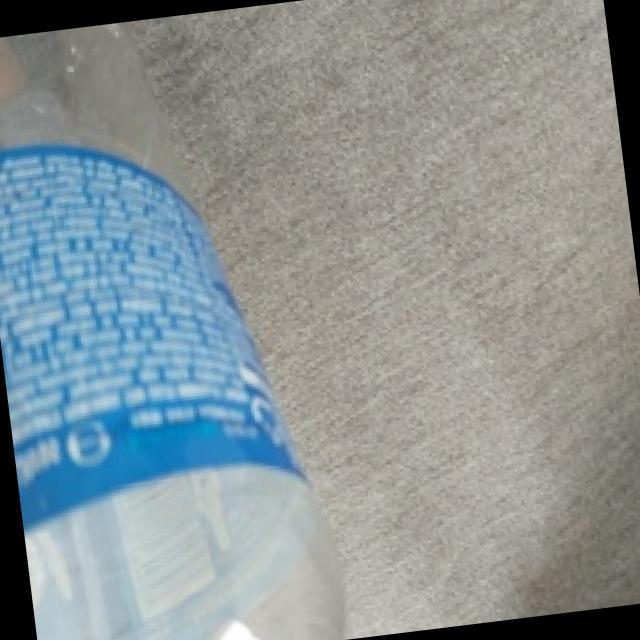good: (0, 2, 359, 640)
